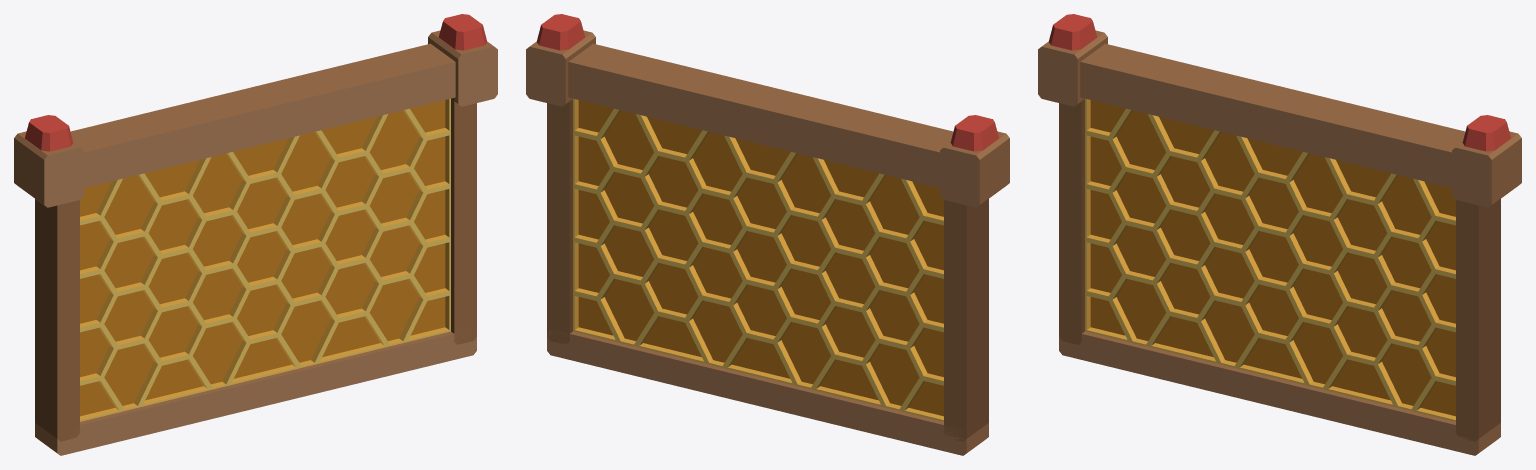
Rendered from FMS_Workshop_TOL_17.fbx.
3 renders of one model, left to right at view 1: azimuth 30°, elevation 25°; view 2: azimuth 150°, elevation 25°; view 3: azimuth 330°, elevation 25°, orthographic.
Visible parts, largest first — view 1: FMS_Workshop_TOL_17_Body; view 2: FMS_Workshop_TOL_17_Body; view 3: FMS_Workshop_TOL_17_Body.
Boxes of the visible parts, x1,y1,x2,y2 form: FMS_Workshop_TOL_17_Body: (14, 14, 497, 455); FMS_Workshop_TOL_17_Body: (526, 14, 1009, 455); FMS_Workshop_TOL_17_Body: (1038, 14, 1521, 455).
Size of the model in its own units: 0.4 by 0.273 by 0.046.
